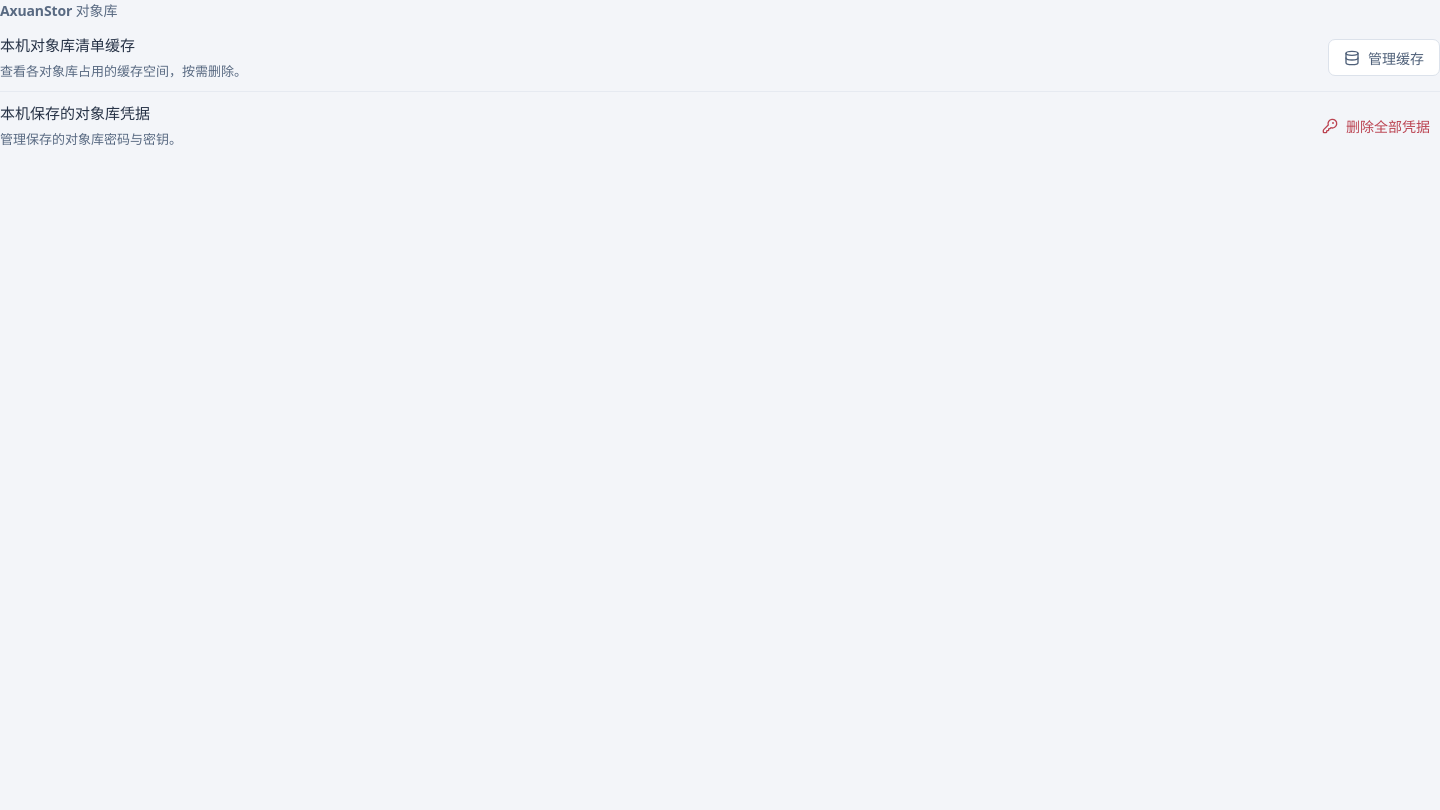
Test case: shows cache names, IDs and sizes while preventing deletion of a library in use
The width and height of the screenshot is (1440, 810).
Later steps or results of the test are not shown.
Click the button with aria-label "管理本机对象库清单缓存" at (1384, 58), box [1328, 39, 1439, 76]
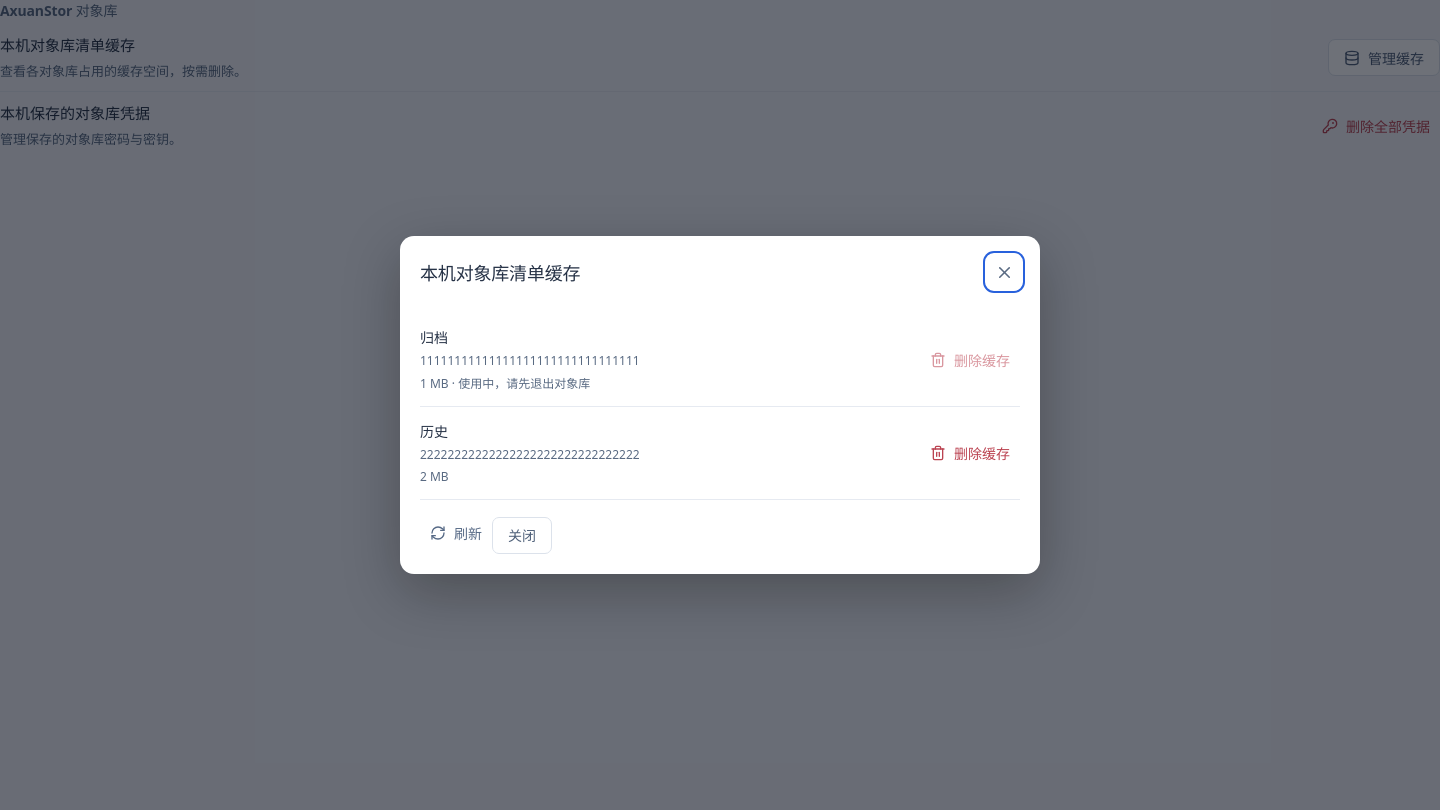
Now the text "归档" is shown, box [420, 328, 448, 347]
Now the text "2 MB" is shown, box [420, 468, 449, 485]
Now the button with aria-label "删除 归档 的缓存" is disabled, box [920, 343, 1020, 377]
